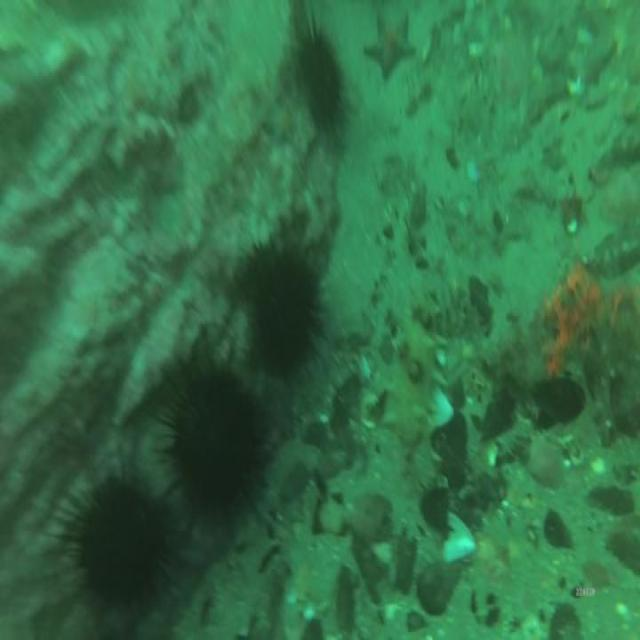echinus: (152, 342, 275, 538), (52, 449, 188, 624), (233, 237, 330, 384), (291, 10, 349, 154)
holothurian: (388, 303, 440, 452)
starfish: (361, 6, 417, 82)
